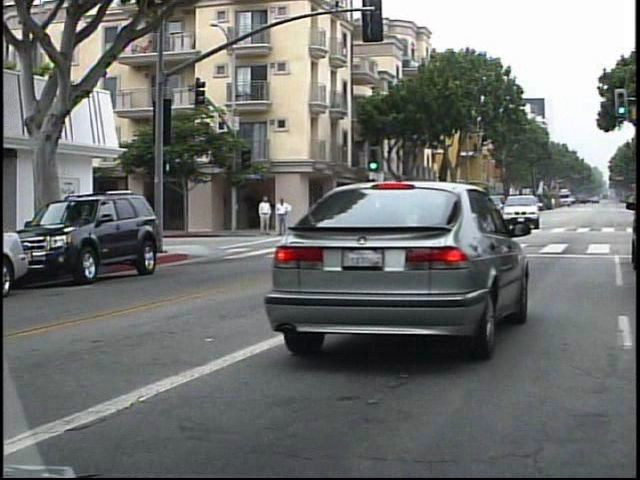person: (270, 194, 290, 235), (253, 191, 270, 236)
